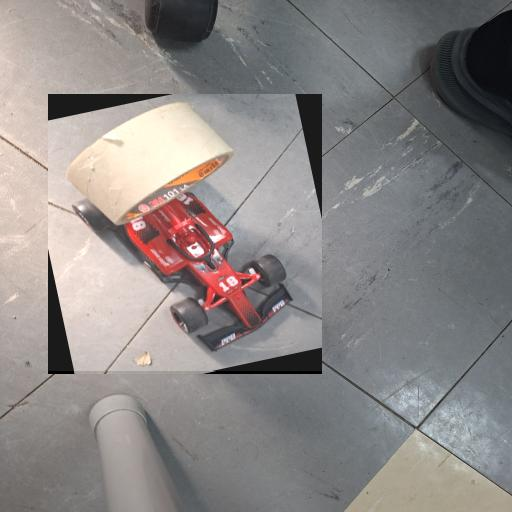carro: (48, 95, 322, 371)
